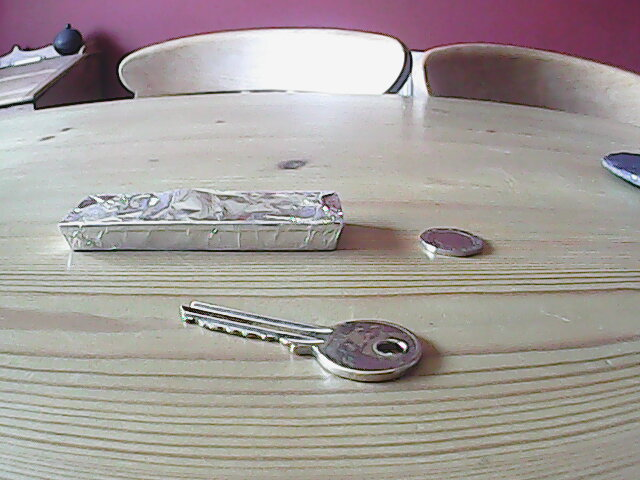Coin: (418, 223, 484, 259)
Foil: (58, 188, 345, 256)
Key: (179, 295, 422, 390)
